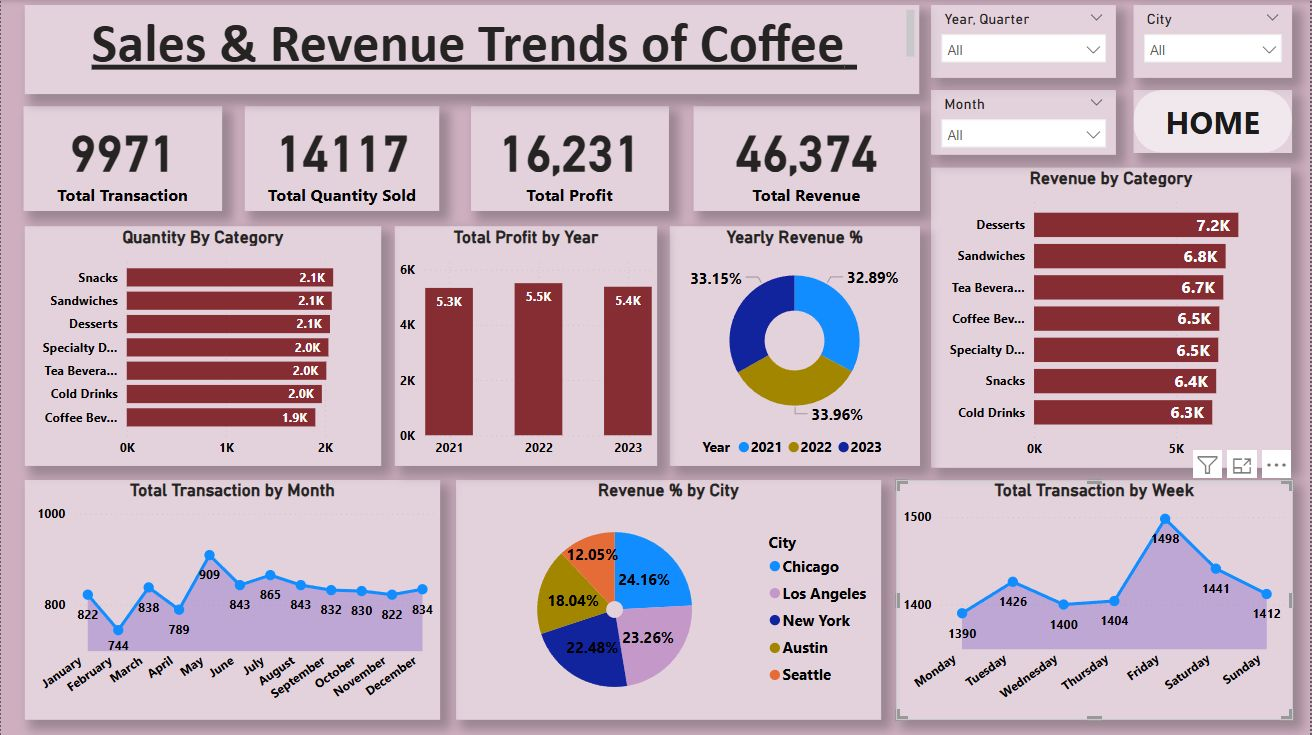

The dashboard page shown, as its layout file describes it:
{"tool":"powerbi","page":{"name":"Page 1","canvas":[1280,720],"ordinal":0},"visuals":[{"type":"card","fields":{"Values":["Sheet1.Total Quantity Sold"]},"box":[238.5,103.9,190.8,102.7],"z":0},{"type":"card","fields":{"Values":["Sheet1.Total Revenue"]},"box":[677.4,103.9,221.3,102.7],"z":1000},{"type":"card","fields":{"Values":["Sheet1.Total Profit"]},"box":[459.8,103.9,193.2,102.7],"z":2000},{"type":"card","fields":{"Values":["Sheet1.Total Transaction"]},"box":[22,103.9,194.4,102.7],"z":3000},{"type":"textbox","box":[23.2,4.9,875.5,86.8],"z":4000},{"type":"clusteredBarChart","title":"Quantity By Category","fields":{"Category":["Sheet1.PRODUCT CATEGORY"],"Y":["Sum(Sheet1.QTY SOLD)"]},"box":[23.3,220.9,348.5,234.6],"z":5000},{"type":"clusteredBarChart","title":"Revenue by Category","fields":{"Category":["Sheet1.PRODUCT CATEGORY"],"Y":["Sum(Sheet1.REVENUE)"]},"box":[909.8,163.9,352.2,293.5],"z":6000},{"type":"donutChart","title":"Yearly Revenue %","fields":{"Category":["Sheet1.DATE.Variation.Date Hierarchy.Year"],"Y":["Sum(Sheet1.REVENUE)"]},"box":[654.2,221.3,244.6,234.8],"z":7000},{"type":"donutChart","title":"Revenue % by City","fields":{"Y":["Sum(Sheet1.REVENUE)"],"Category":["Sheet1.City"]},"box":[444.6,469.3,415.8,234.6],"z":8000},{"type":"lineChart","fields":{"Category":["Sheet1.DATE.Variation.Date Hierarchy.Month"],"Y":["Sheet1.Total Transaction"]},"box":[23.3,469.3,406.2,234.6],"z":9000},{"type":"lineChart","title":"Total Transaction by Week","fields":{"Y":["Sheet1.Total Transaction"],"Category":["Sheet1.DayName"]},"box":[875.5,469.6,387.6,234.8],"z":10000},{"type":"clusteredColumnChart","fields":{"Category":["Sheet1.DATE.Variation.Date Hierarchy.Year"],"Y":["Sheet1.Total Profit"]},"box":[385.6,220.9,256.6,234.6],"z":11000},{"type":"slicer","fields":{"Values":["Sheet1.DATE.Variation.Date Hierarchy.Year","Sheet1.DATE.Variation.Date Hierarchy.Quarter"]},"box":[909.8,5.5,181.1,71.4],"z":12000},{"type":"slicer","fields":{"Values":["Sheet1.City"]},"box":[1107.4,5.5,155.1,71.4],"z":13000},{"type":"slicer","fields":{"Values":["Sheet1.DATE.Variation.Date Hierarchy.Month"]},"box":[909.8,87.8,181.1,63.1],"z":14000},{"type":"actionButton","title":"HOME","box":[1108.1,88.5,154.9,61.3],"z":15000}]}

Visuals, with their boxes in screenshot pixels (x1, y1, x2, y2), scaled from the page's 1280x720 canvas onto the 1312x735 screenshot:
card - Sheet1.Total Quantity Sold: crop(244, 106, 440, 211)
card - Sheet1.Total Revenue: crop(694, 106, 921, 211)
card - Sheet1.Total Profit: crop(471, 106, 669, 211)
card - Sheet1.Total Transaction: crop(23, 106, 222, 211)
textbox: crop(24, 5, 921, 94)
"Quantity By Category" clusteredBarChart: crop(24, 226, 381, 465)
"Revenue by Category" clusteredBarChart: crop(933, 167, 1294, 467)
"Yearly Revenue %" donutChart: crop(671, 226, 921, 466)
"Revenue % by City" donutChart: crop(456, 479, 882, 719)
lineChart - Sheet1.DATE.Variation.Date Hierarchy.Month x Sheet1.Total Transaction: crop(24, 479, 440, 719)
"Total Transaction by Week" lineChart: crop(897, 479, 1295, 719)
clusteredColumnChart - Sheet1.DATE.Variation.Date Hierarchy.Year x Sheet1.Total Profit: crop(395, 226, 658, 465)
slicer - Sheet1.DATE.Variation.Date Hierarchy.Year x Sheet1.DATE.Variation.Date Hierarchy.Quarter: crop(933, 6, 1118, 79)
slicer - Sheet1.City: crop(1135, 6, 1294, 79)
slicer - Sheet1.DATE.Variation.Date Hierarchy.Month: crop(933, 90, 1118, 154)
"HOME" actionButton: crop(1136, 90, 1295, 153)
